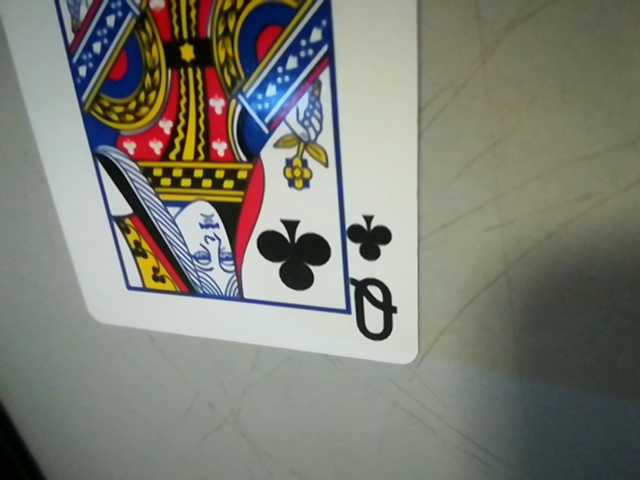mh q: (335, 203, 413, 352)
